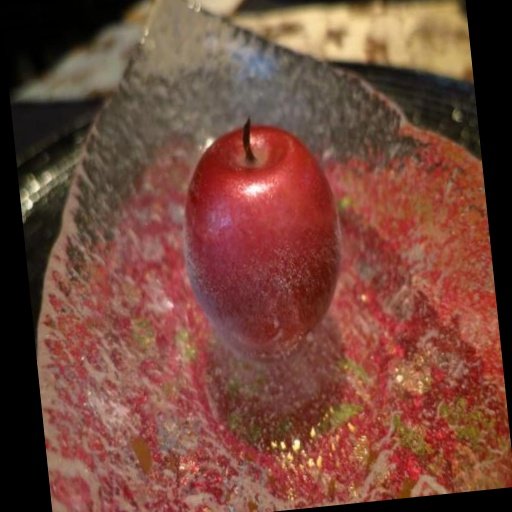fruit: (184, 122, 339, 357)
